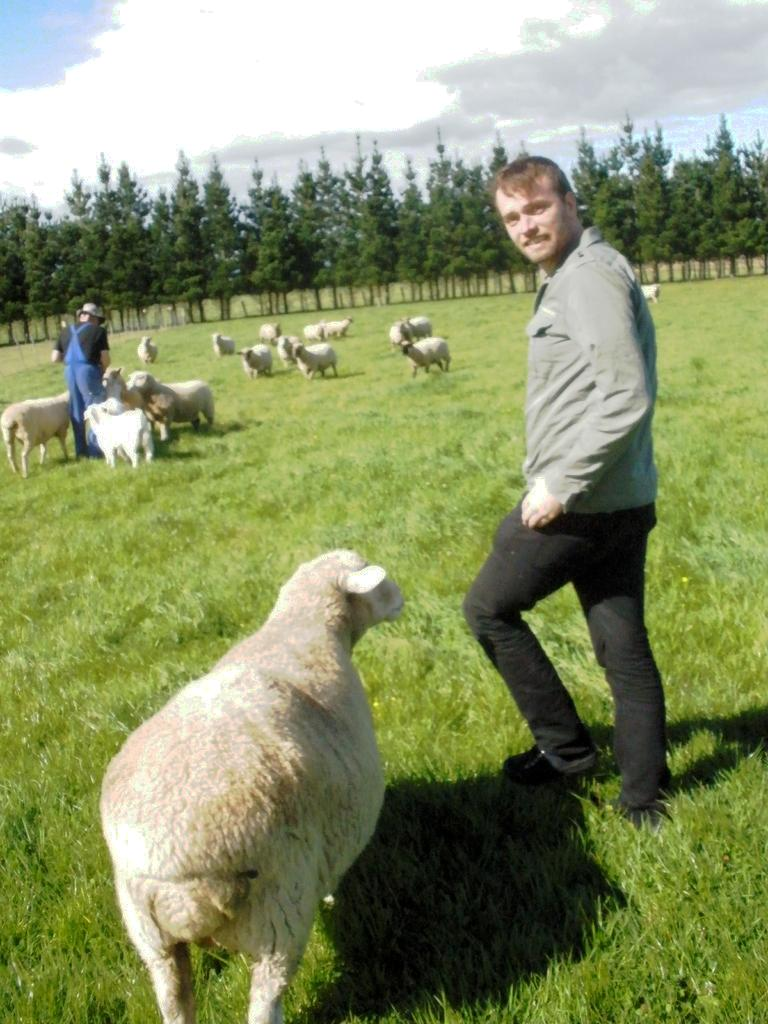Sheep: (98, 534, 416, 1024), (1, 386, 82, 476), (122, 370, 214, 440), (82, 396, 154, 474), (288, 340, 340, 385), (396, 337, 450, 377), (237, 344, 272, 378), (388, 320, 413, 354), (276, 336, 302, 368), (403, 316, 433, 340), (321, 318, 353, 340), (210, 332, 235, 357), (137, 336, 157, 365), (258, 322, 282, 346), (302, 320, 326, 342), (640, 284, 660, 304)
